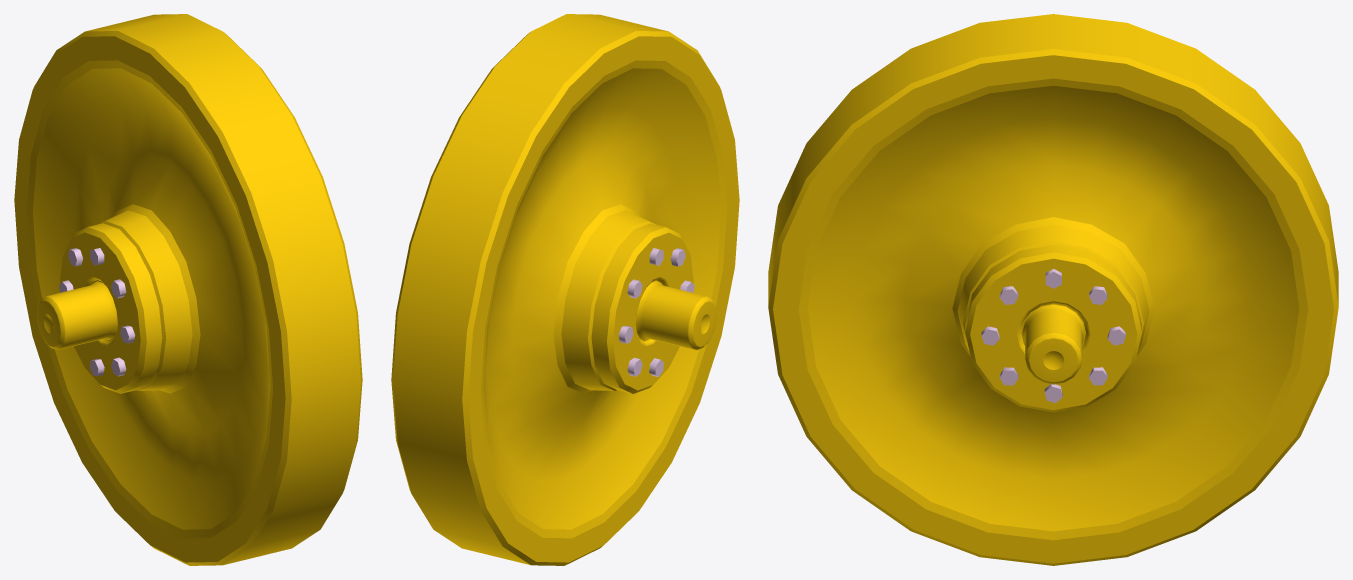
The model's file is Earthmover_Body_IdlerBack_01a_snaps005.fbx.
3 views of the same model, side by side, from view 1: azimuth 30°, elevation 25°; view 2: azimuth 150°, elevation 25°; view 3: azimuth 270°, elevation 25° (orthographic). The views are drawn at different scales.
Visible parts, largest first — view 1: Earthmover_Body_13a_snaps005; view 2: Earthmover_Body_13a_snaps005; view 3: Earthmover_Body_13a_snaps005.
Boxes of the visible parts, left/top/right/bottom form: Earthmover_Body_13a_snaps005: left=14, top=14, right=362, bottom=565; Earthmover_Body_13a_snaps005: left=391, top=14, right=739, bottom=565; Earthmover_Body_13a_snaps005: left=768, top=14, right=1338, bottom=565.
Bounding box in the file's own units: 43.21 × 73.81 × 73.81.
